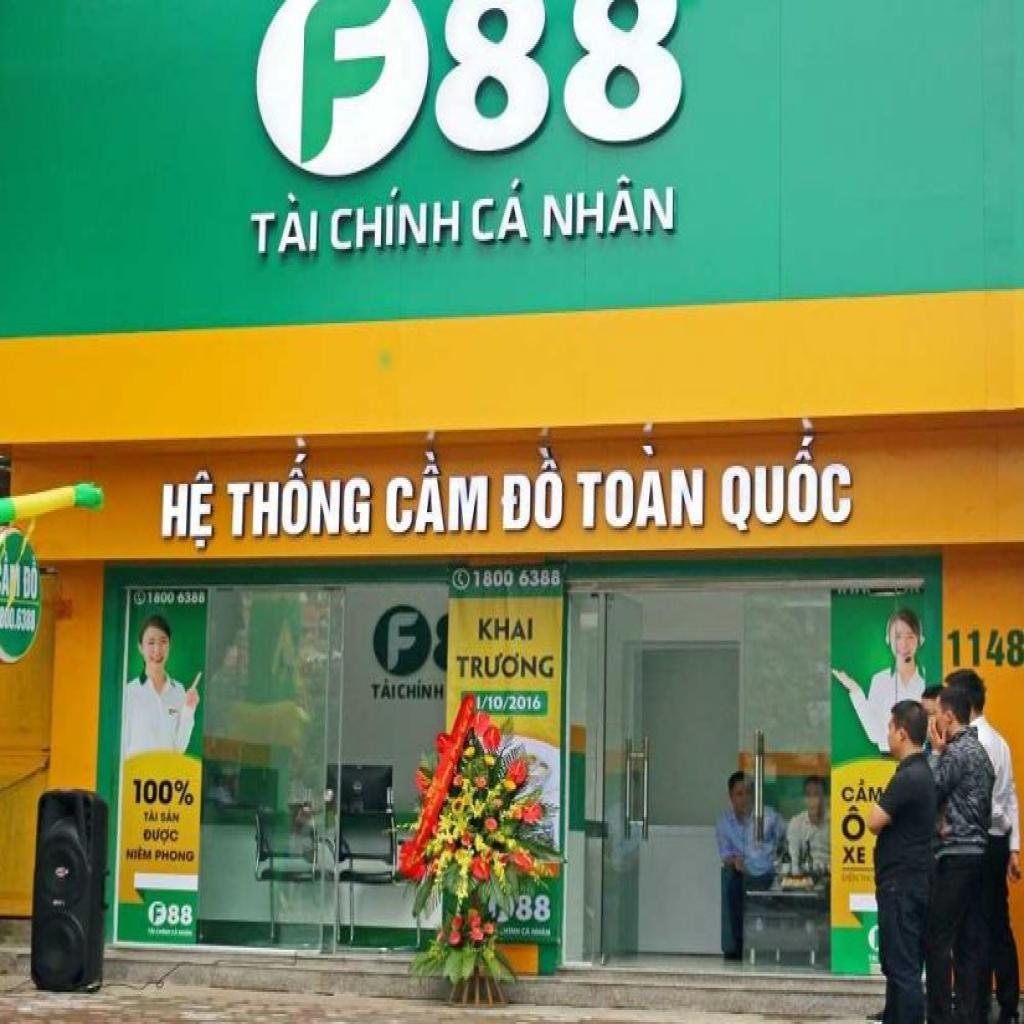text: (425, 0, 690, 157), (299, 0, 395, 169), (224, 450, 376, 544), (720, 432, 856, 536), (576, 442, 709, 532), (541, 165, 677, 245), (328, 179, 462, 257), (382, 446, 492, 538), (498, 446, 567, 536), (247, 191, 323, 261), (160, 466, 216, 556), (470, 175, 532, 247), (454, 648, 558, 684), (944, 626, 1024, 670), (132, 773, 198, 809), (386, 610, 422, 675), (472, 566, 562, 592), (478, 616, 535, 644), (842, 775, 886, 809), (474, 695, 544, 715), (397, 676, 446, 702), (515, 892, 552, 926), (839, 805, 868, 845), (146, 590, 208, 608), (22, 554, 40, 602), (141, 828, 180, 850), (369, 676, 397, 704), (154, 848, 197, 866), (168, 904, 194, 928), (125, 842, 153, 864), (842, 846, 868, 868), (0, 548, 11, 598), (160, 807, 183, 827), (143, 805, 160, 825), (153, 904, 165, 926)
